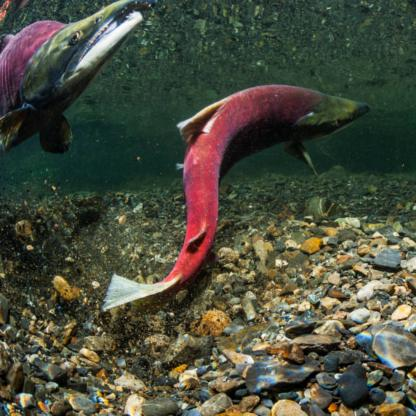sockeye: (103, 94, 374, 317), (0, 1, 130, 146)
